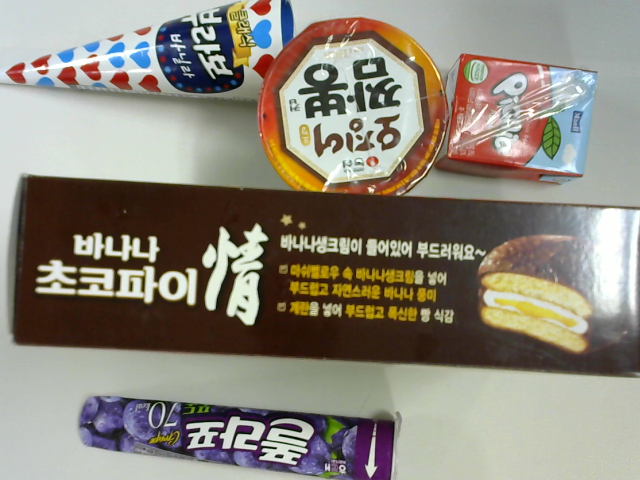Bravo_Cone_(Banila)_CVS: (5, 4, 299, 108)
Choco_Pie_Banana: (11, 172, 640, 378)
Ojjam: (259, 18, 451, 198)
Picnic_Apple: (435, 60, 603, 186)
Polapo_Grape: (77, 390, 412, 480)
